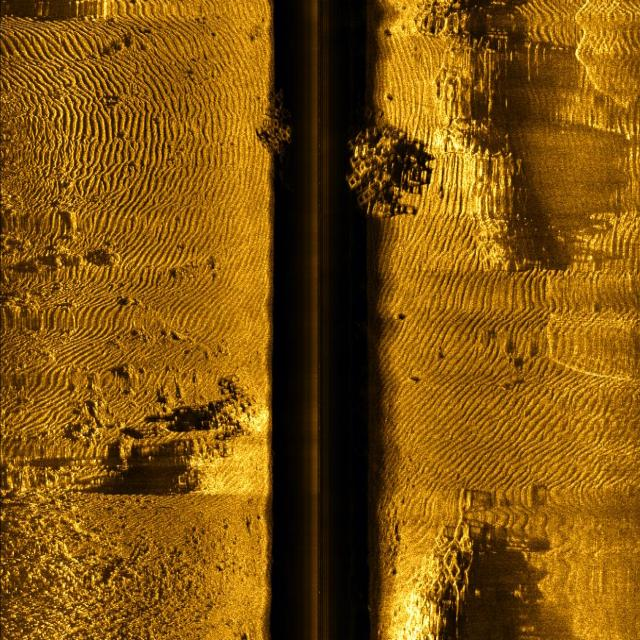artificial reef: (346, 123, 418, 237), (417, 513, 478, 640), (260, 79, 291, 156)
